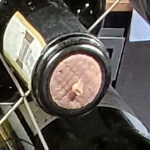bottle: (25, 26, 120, 130)
